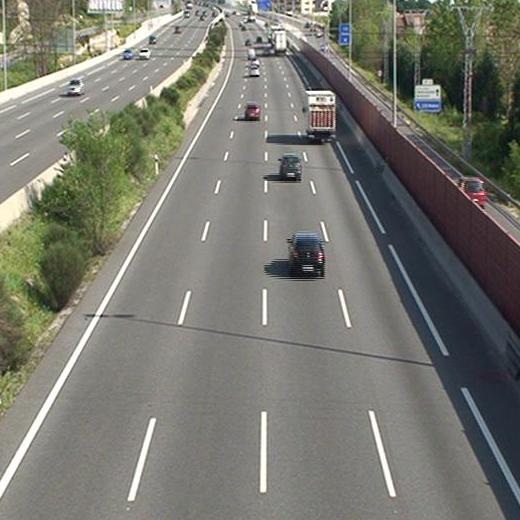car: (287, 233, 325, 275), (279, 154, 301, 178), (244, 104, 260, 120), (248, 64, 260, 77)
small-truck: (305, 89, 334, 140)
truck: (273, 31, 287, 55)
van: (247, 46, 255, 60)
